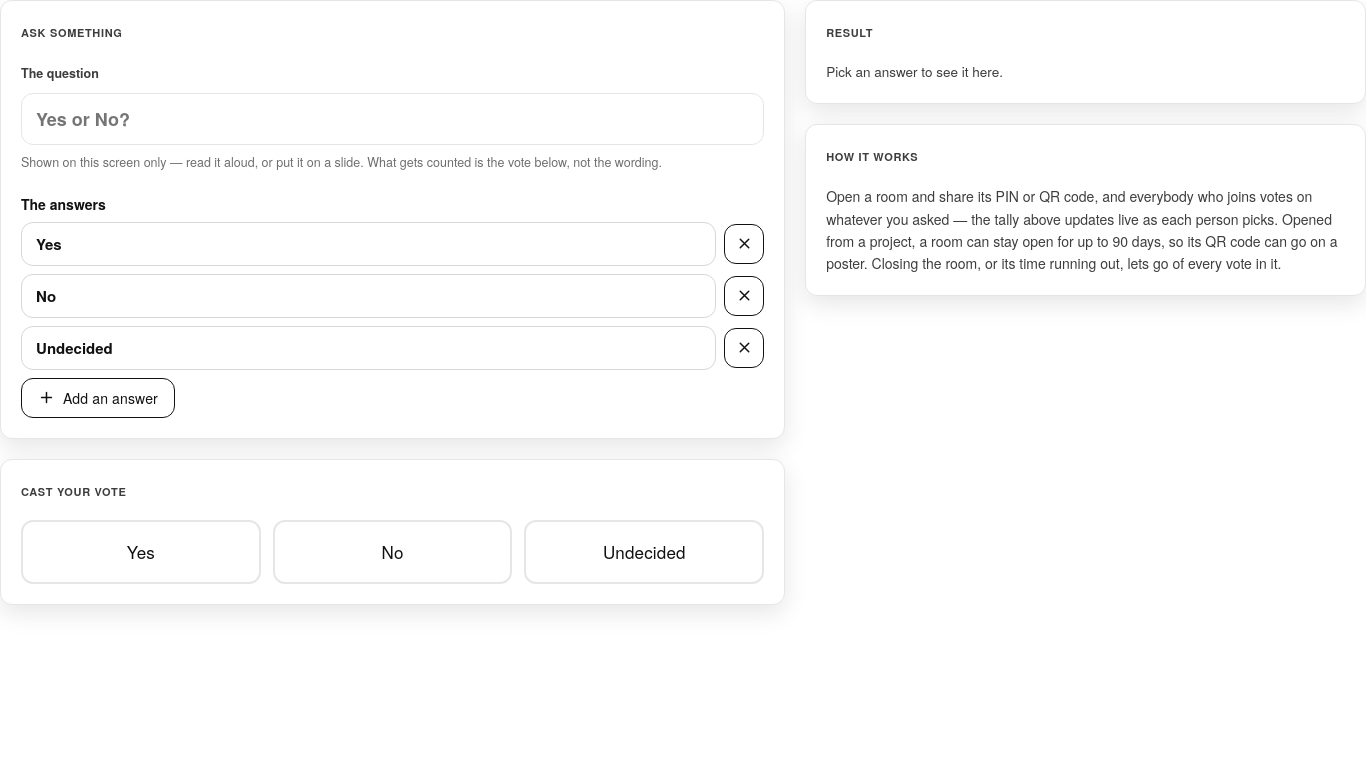
Test: Poll › adds answers, and removes them down to two
Click the button "Add an answer". click: click(98, 398)
box: [21,378,175,418]
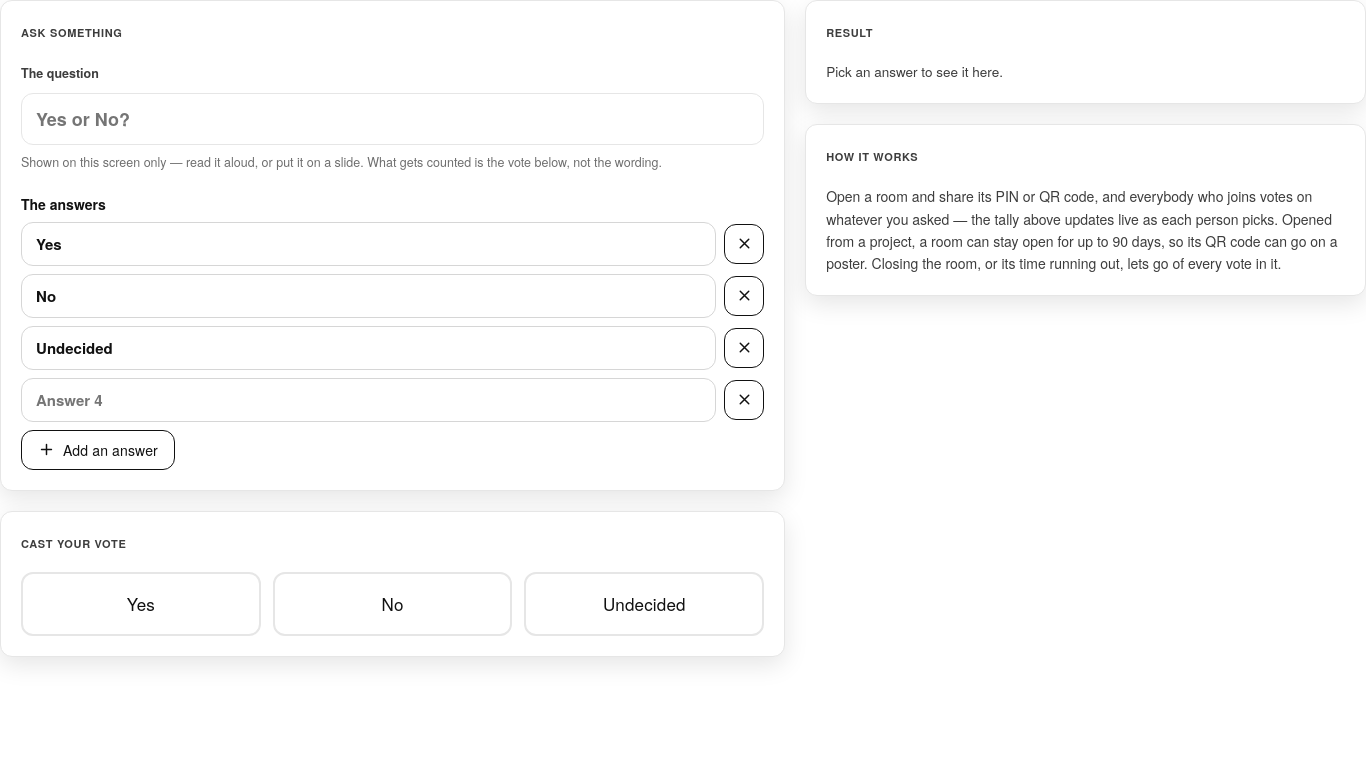
Type "Only at weekends" into the field labelled "Answer 4". click: (369, 400)
box: [21,378,716,422]
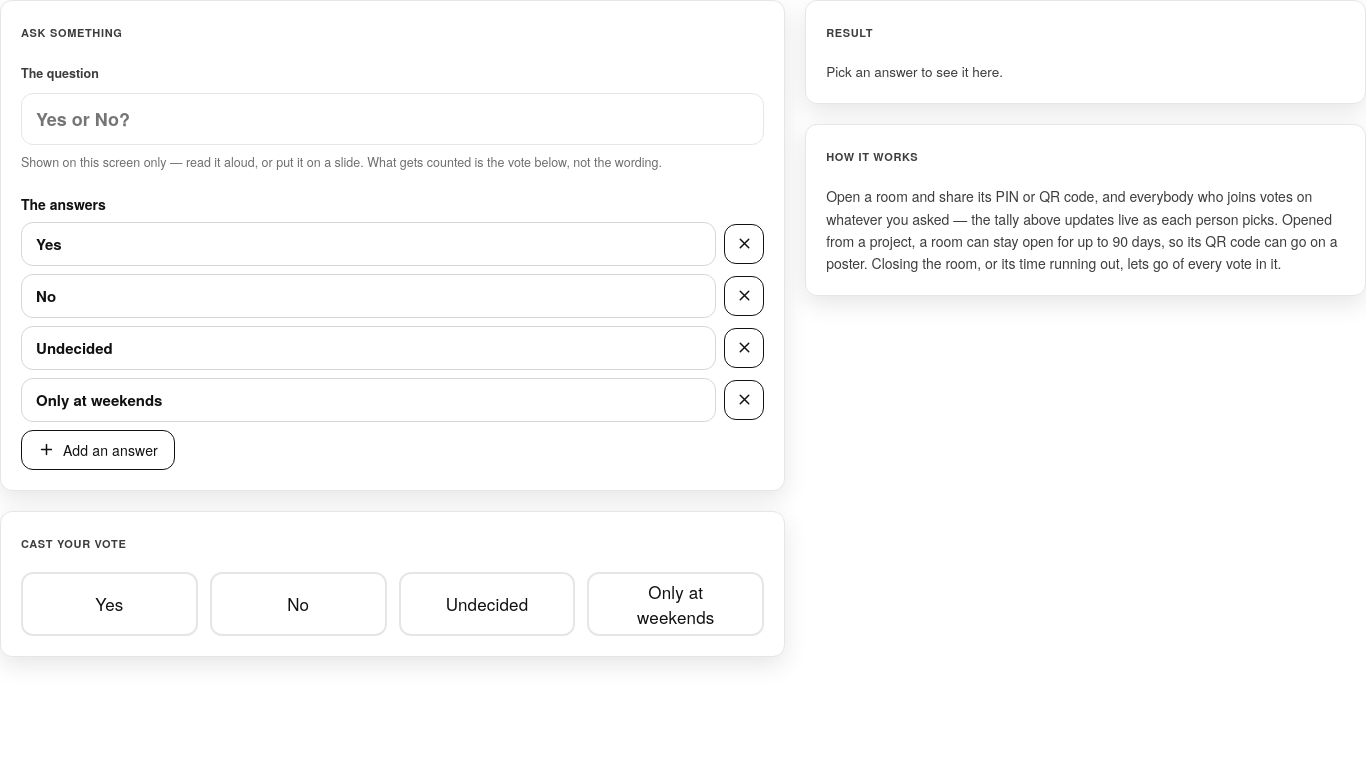
Click the button "Only at weekends". click: click(676, 604)
box: [587,572,764,636]
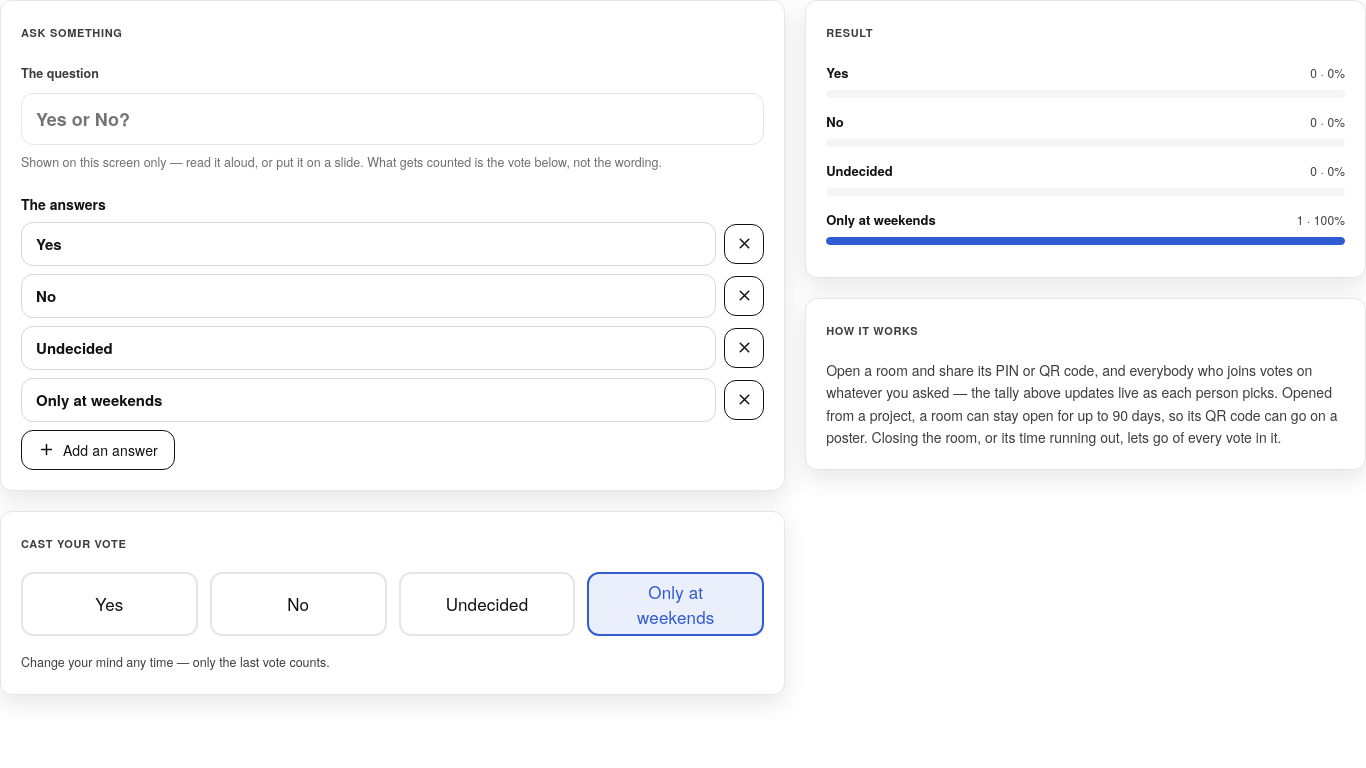
Result: the text "1 · 100%" is shown at [1297,208,1345,232]
Click the button named "Remove answer 4". click: click(744, 400)
box: [724,380,764,420]
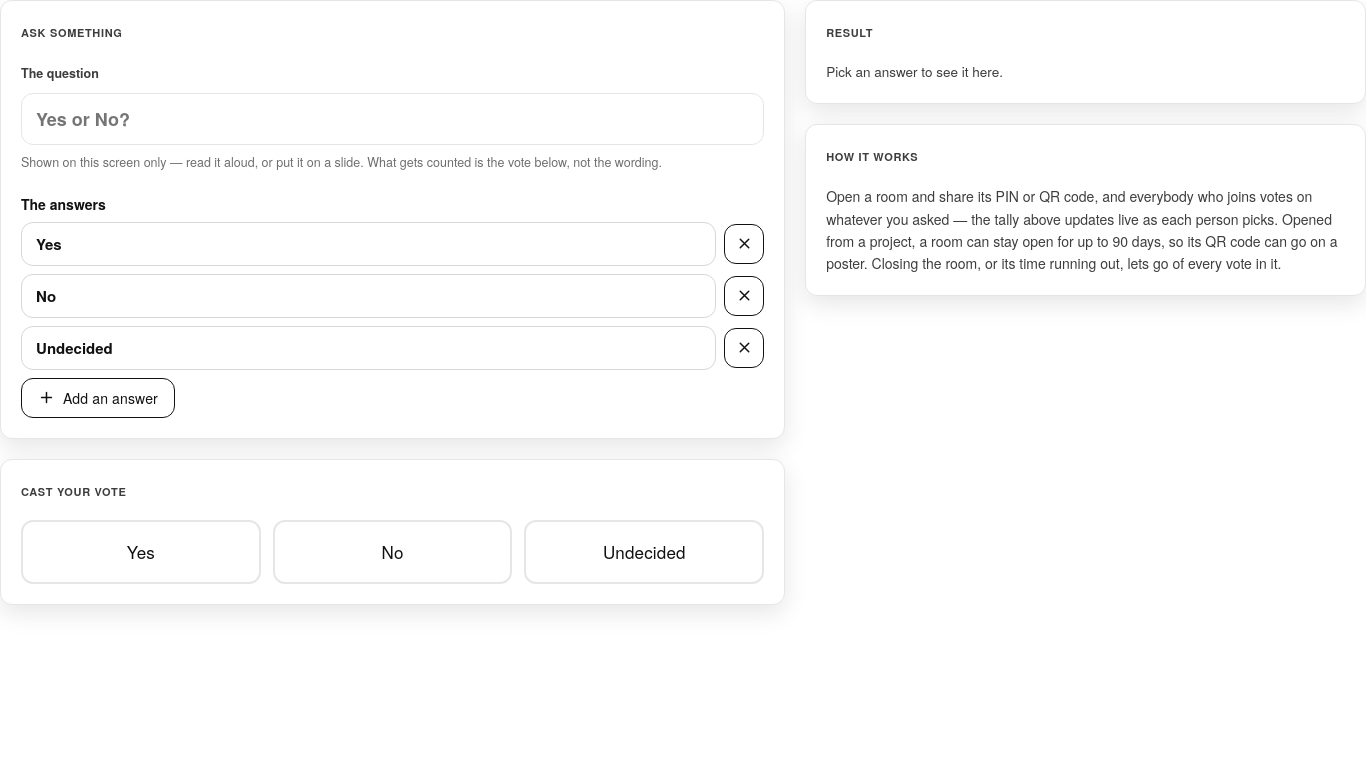
Result: the button "Only at weekends" is gone
Result: the text "Pick an answer to see it here." is shown at [826,62,1003,81]
Click the button named "Remove answer 3". click: click(744, 348)
box: [724,328,764,368]
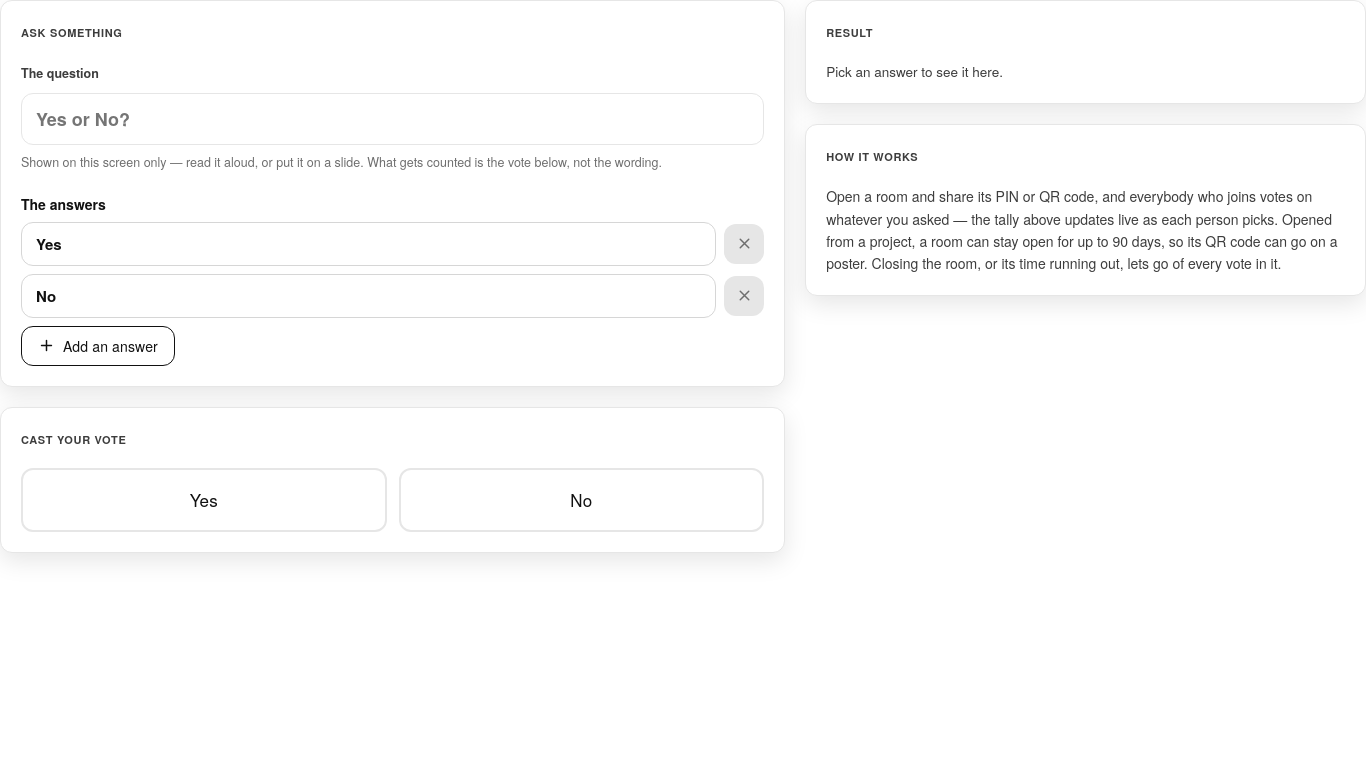
Result: the button named "Remove answer 1" is disabled at [724,224,764,264]
